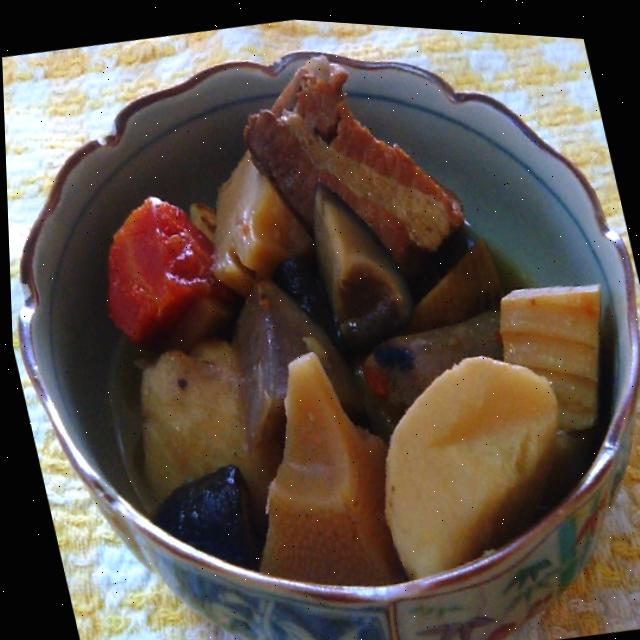鸡肉料理 含炸鸡: (30, 41, 640, 640)
